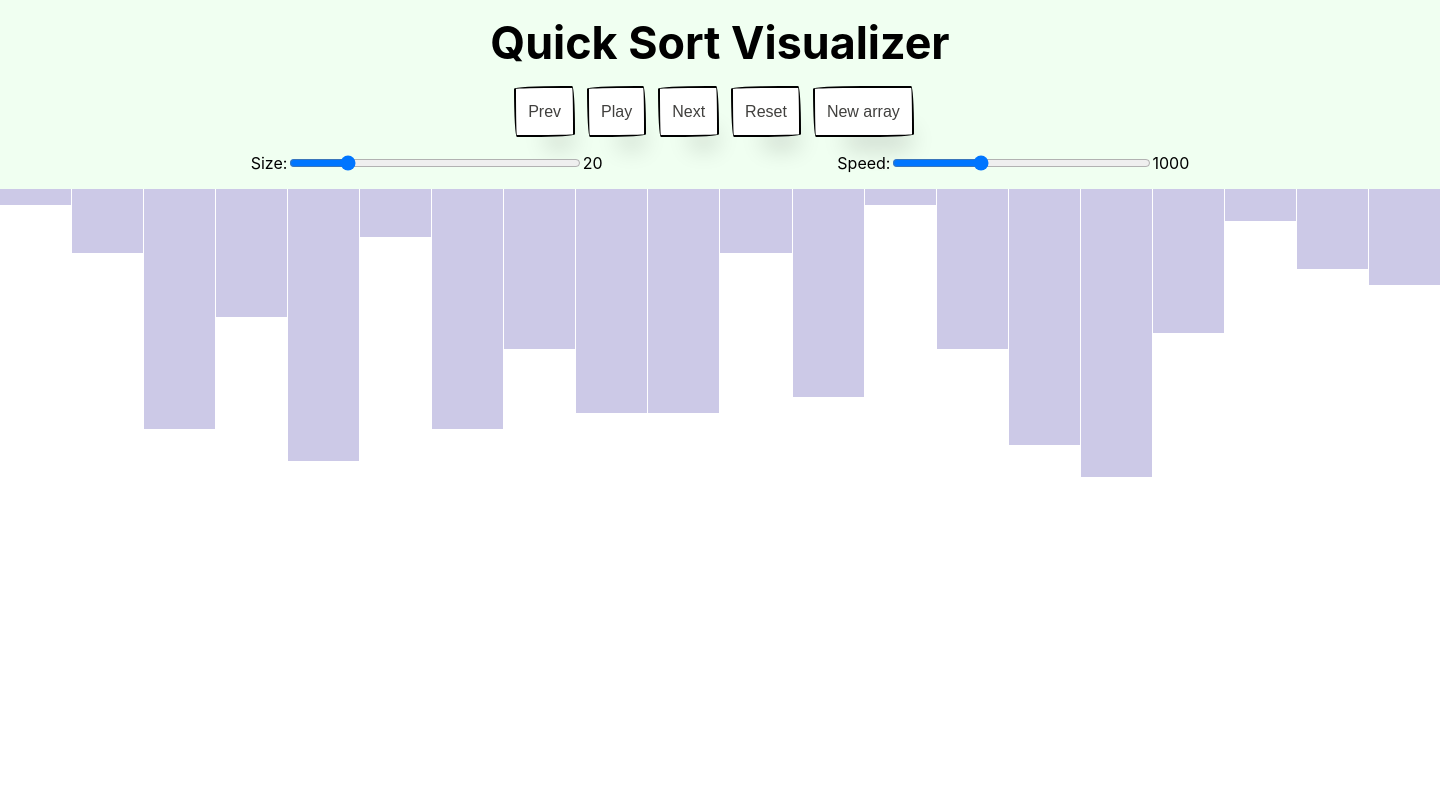
Visualizer › should not set the array size to 150
The image size is (1440, 810).
Set the slider with test id "sizeOfArray" to "150" at {"x": 435, "y": 163}, box [289,155,581,171]
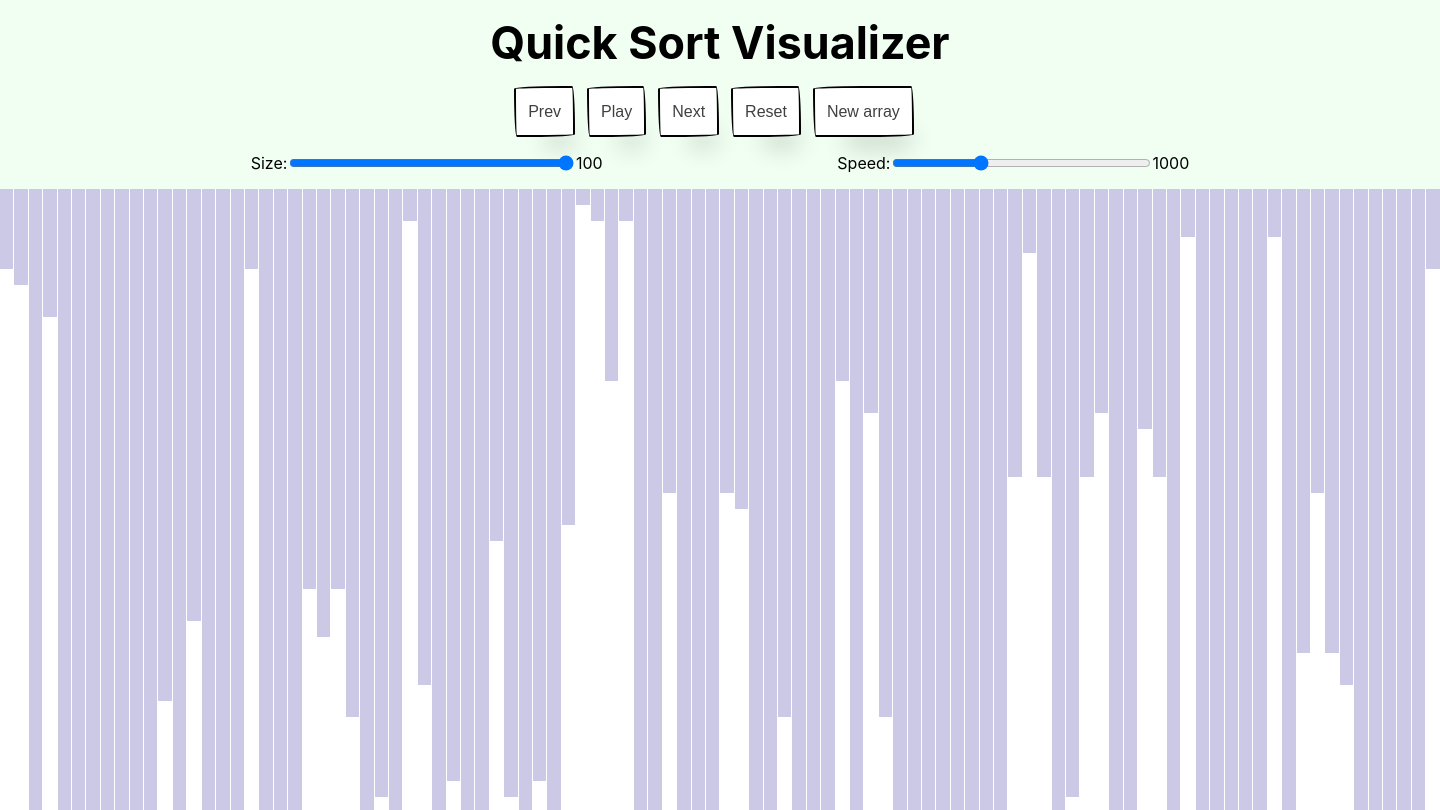
Expected: the slider with test id "sizeOfArray" does not hold "150", [289,155,574,171]
